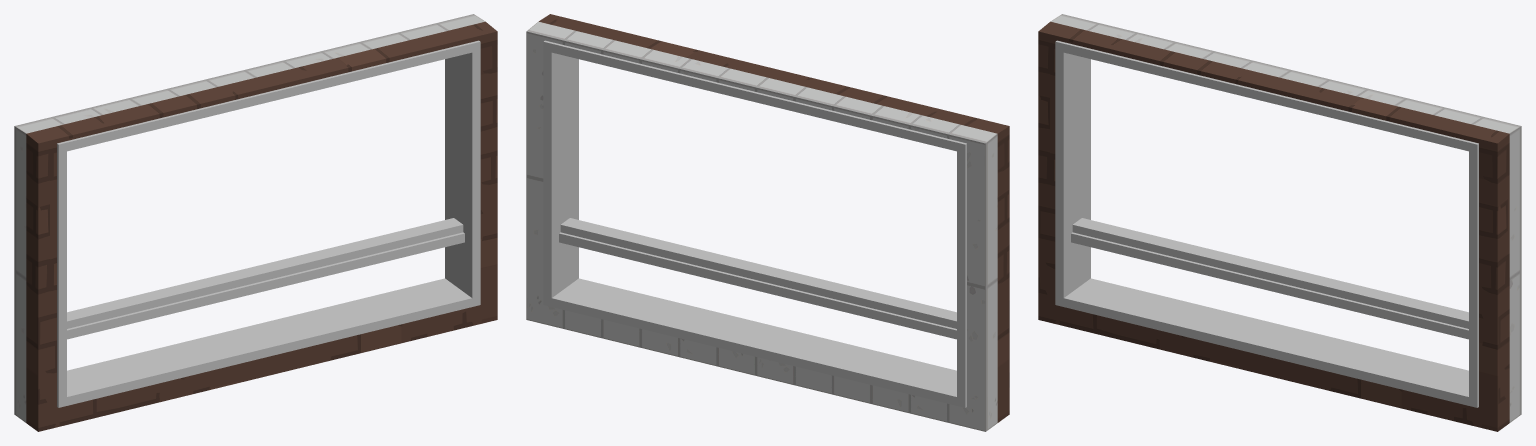
File: SM_Bld_Base_Wall_Window_Half_01.obj
The picture shows the model from 3 angles, left to right: view 1: azimuth 30°, elevation 25°; view 2: azimuth 150°, elevation 25°; view 3: azimuth 330°, elevation 25°; orthographic projection.
Visible parts, largest first — view 1: SM_Bld_Base_Wall_Window_Half_01_0, SM_Bld_Base_Wall_Window_Half_01_2, SM_Bld_Base_Wall_Window_Half_01_1; view 2: SM_Bld_Base_Wall_Window_Half_01_0, SM_Bld_Base_Wall_Window_Half_01_1, SM_Bld_Base_Wall_Window_Half_01_2; view 3: SM_Bld_Base_Wall_Window_Half_01_0, SM_Bld_Base_Wall_Window_Half_01_2, SM_Bld_Base_Wall_Window_Half_01_1.
Part boxes in pixels (x1=…): SM_Bld_Base_Wall_Window_Half_01_0: x1=57, y1=40, x2=480, y2=407; SM_Bld_Base_Wall_Window_Half_01_2: x1=26, y1=21, x2=497, y2=431; SM_Bld_Base_Wall_Window_Half_01_1: x1=14, y1=14, x2=484, y2=422; SM_Bld_Base_Wall_Window_Half_01_0: x1=543, y1=40, x2=966, y2=407; SM_Bld_Base_Wall_Window_Half_01_1: x1=526, y1=21, x2=997, y2=431; SM_Bld_Base_Wall_Window_Half_01_2: x1=539, y1=14, x2=1009, y2=422; SM_Bld_Base_Wall_Window_Half_01_0: x1=1055, y1=40, x2=1478, y2=407; SM_Bld_Base_Wall_Window_Half_01_2: x1=1038, y1=21, x2=1509, y2=431; SM_Bld_Base_Wall_Window_Half_01_1: x1=1051, y1=14, x2=1521, y2=422.
Size of the model in its own units: 2.5 by 1.51 by 0.2556.
